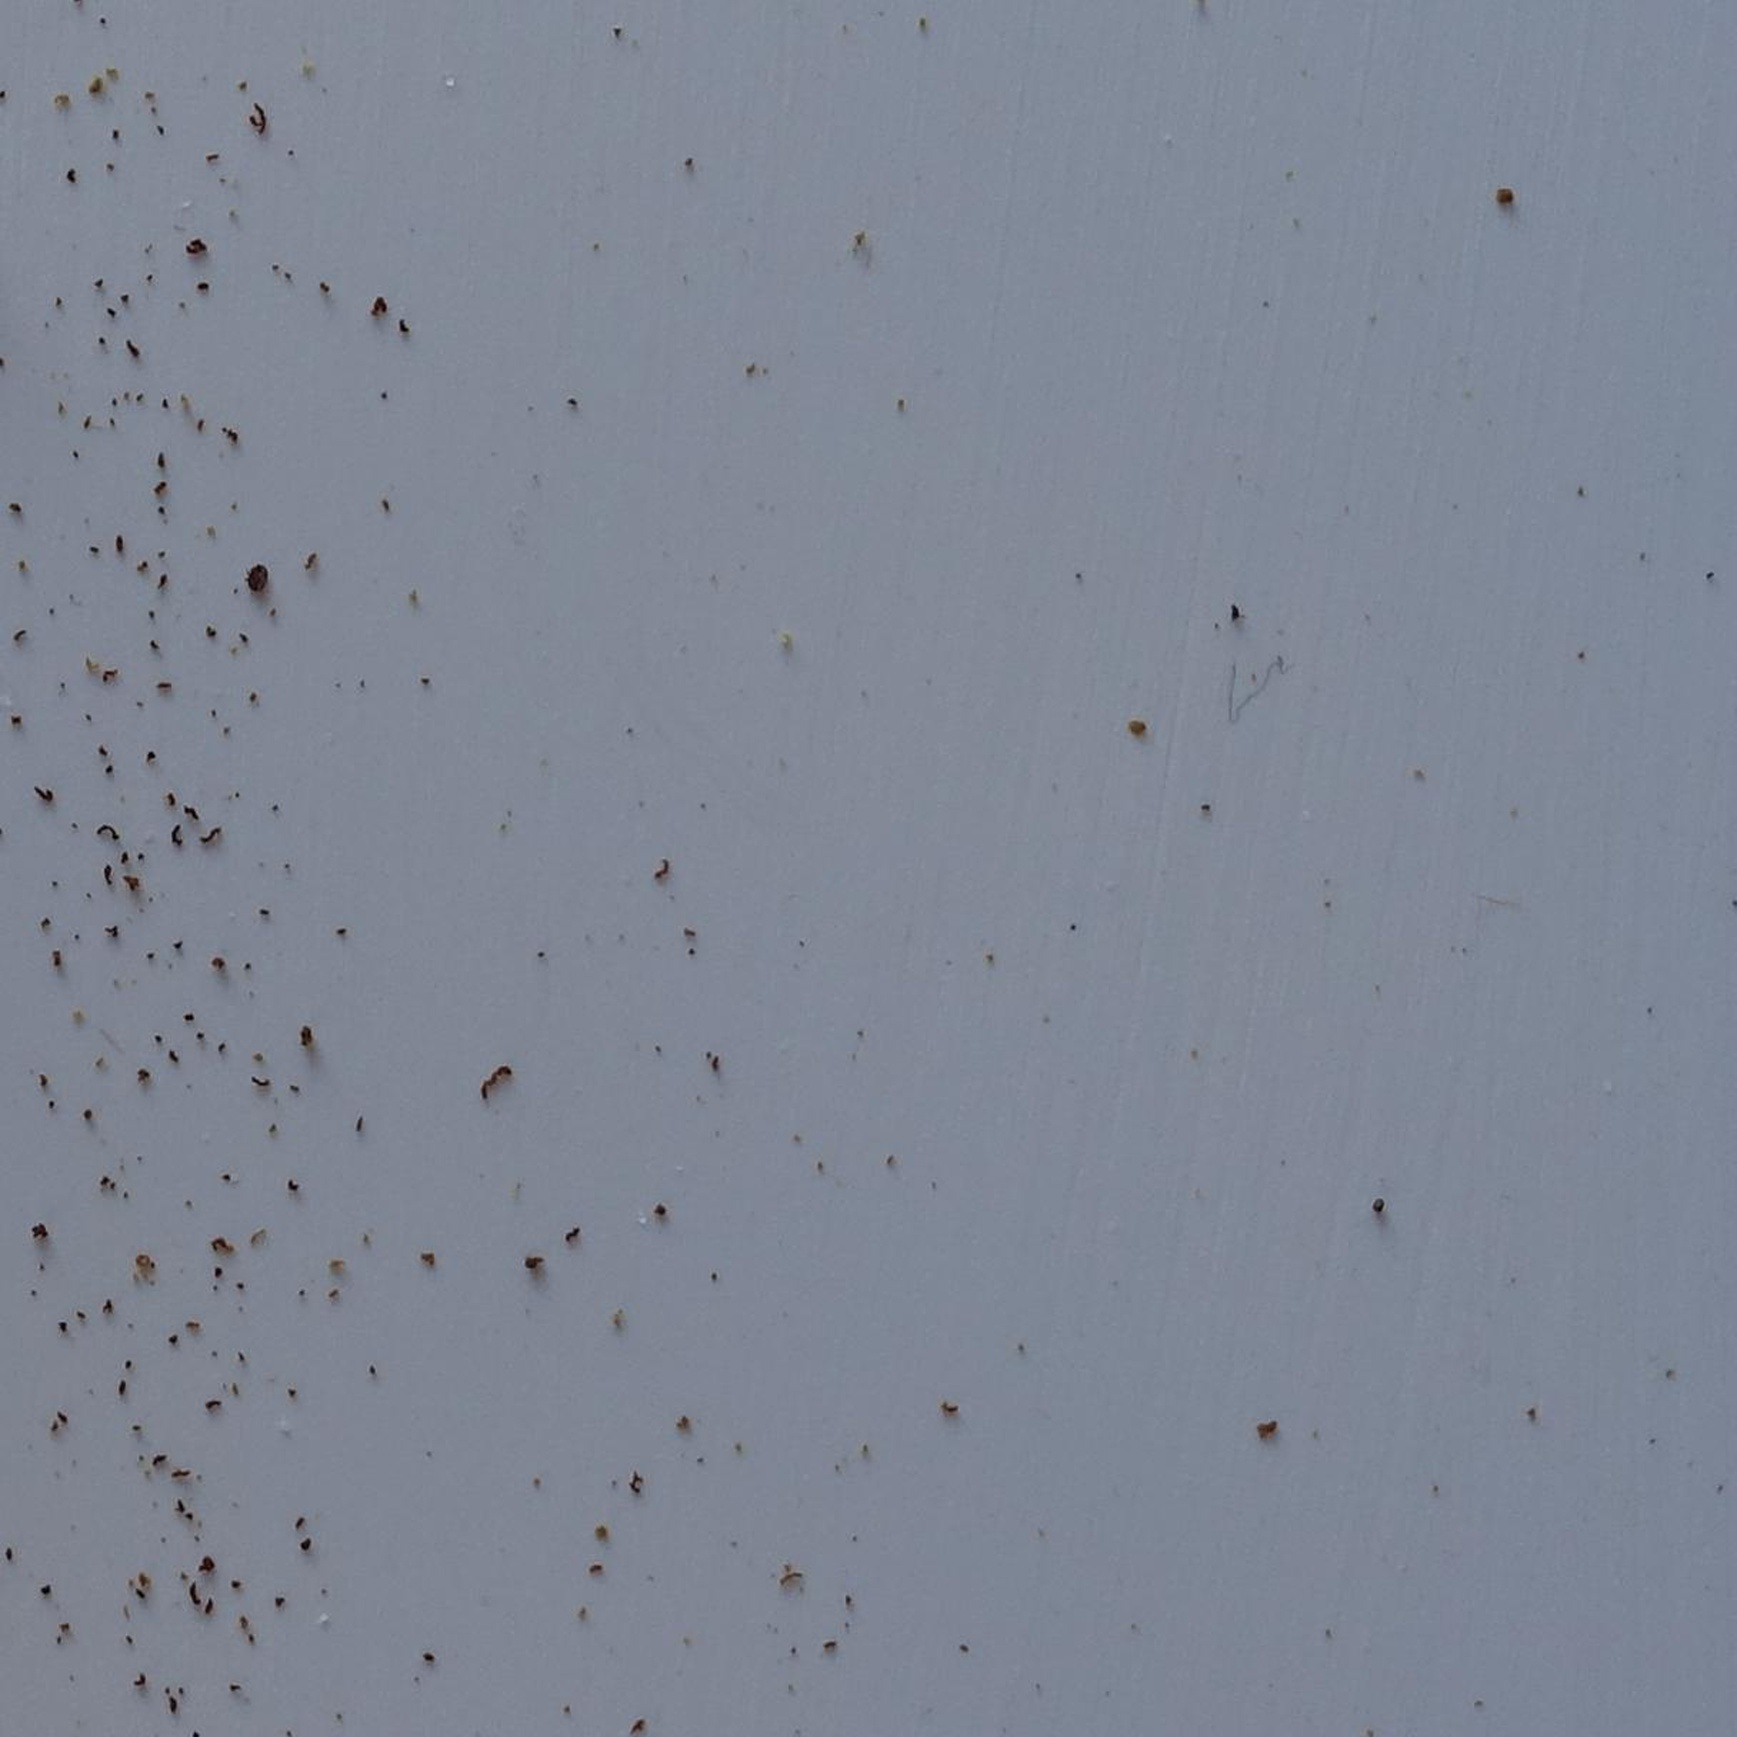Varroa: (243, 569, 267, 595)
